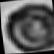correct: (1, 0, 54, 54)
